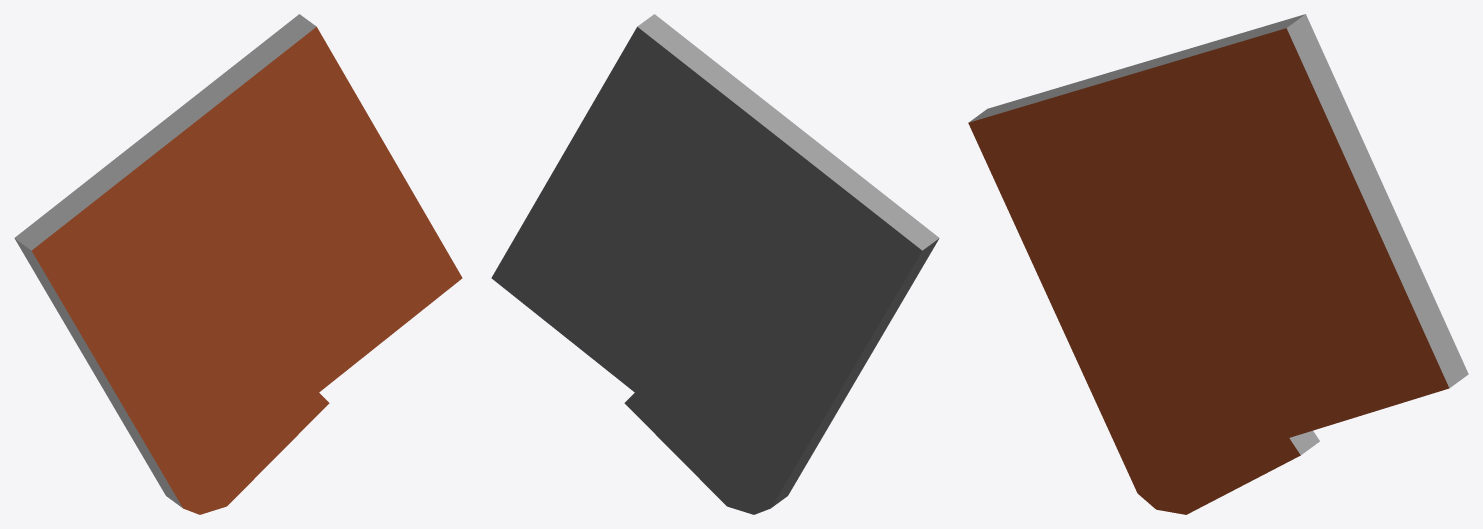
Rendered from construction_0142_assumed_A_Grande_construcao_h6m.obj.
3 renders of one model, left to right at view 1: azimuth 30°, elevation 25°; view 2: azimuth 150°, elevation 25°; view 3: azimuth 330°, elevation 25°, orthographic. The views are drawn at different scales.
Visible parts, largest first — view 1: construction_0142_assumed_A_Grande_construcao; view 2: construction_0142_assumed_A_Grande_construcao; view 3: construction_0142_assumed_A_Grande_construcao.
Part boxes in pixels (x1,y1,x2,y2): construction_0142_assumed_A_Grande_construcao: (14, 14, 462, 514); construction_0142_assumed_A_Grande_construcao: (491, 14, 939, 514); construction_0142_assumed_A_Grande_construcao: (968, 14, 1468, 514).
Bounding box in the file's own units: 86.42 × 88.08 × 6.
